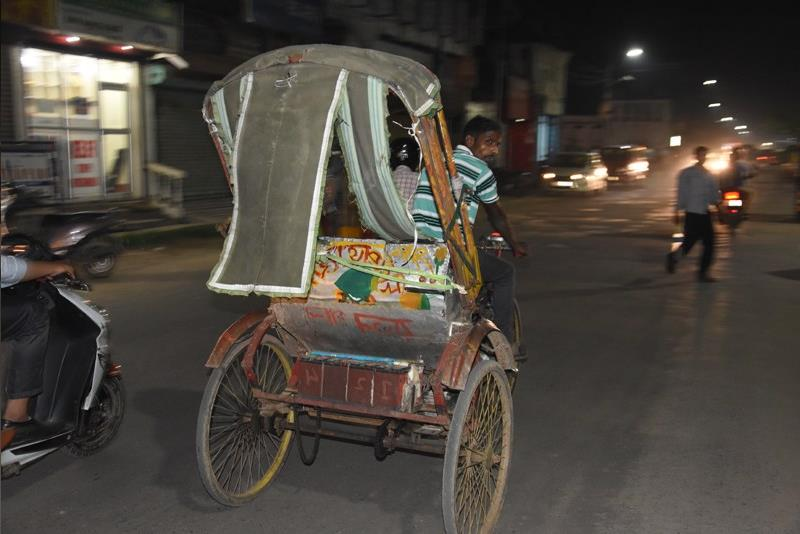Rickshaw: (177, 40, 529, 469)
